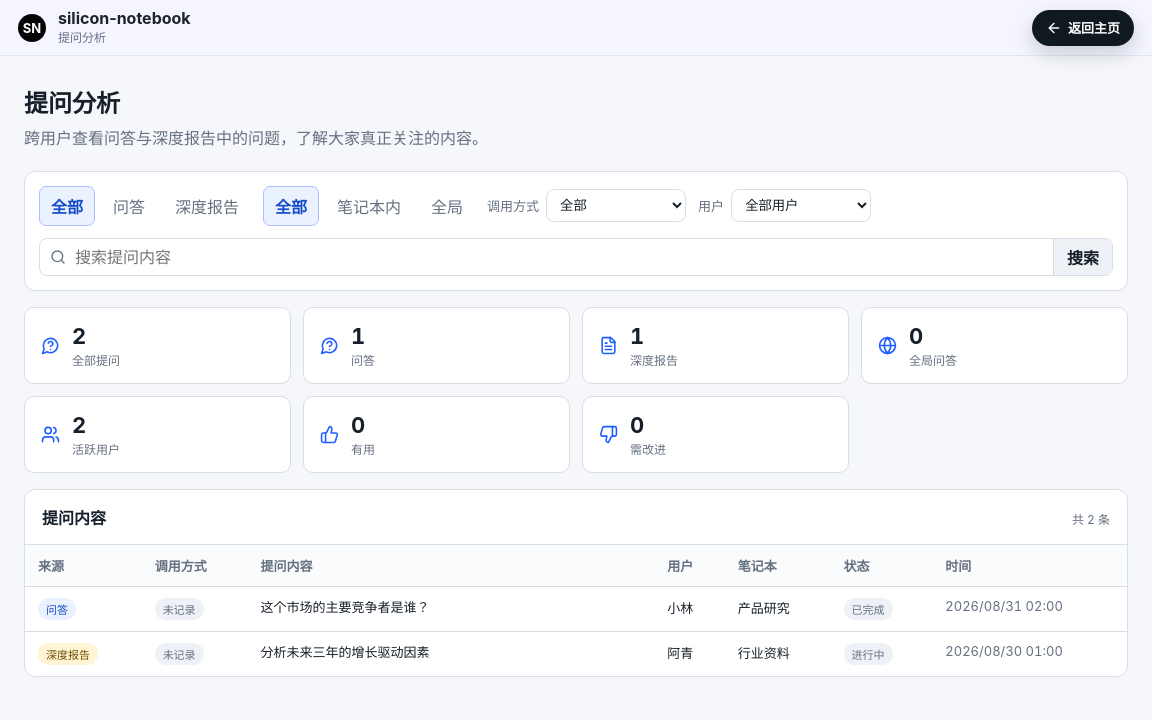
迟到的旧筛选响应不会覆盖当前提问结果
This screenshot has width=1152, height=720.
Expected: the text "这个市场的主要竞争者是谁？" is shown, [247,586,654,631]
Click the button "问答" at (129, 206), box [101,186,157,226]
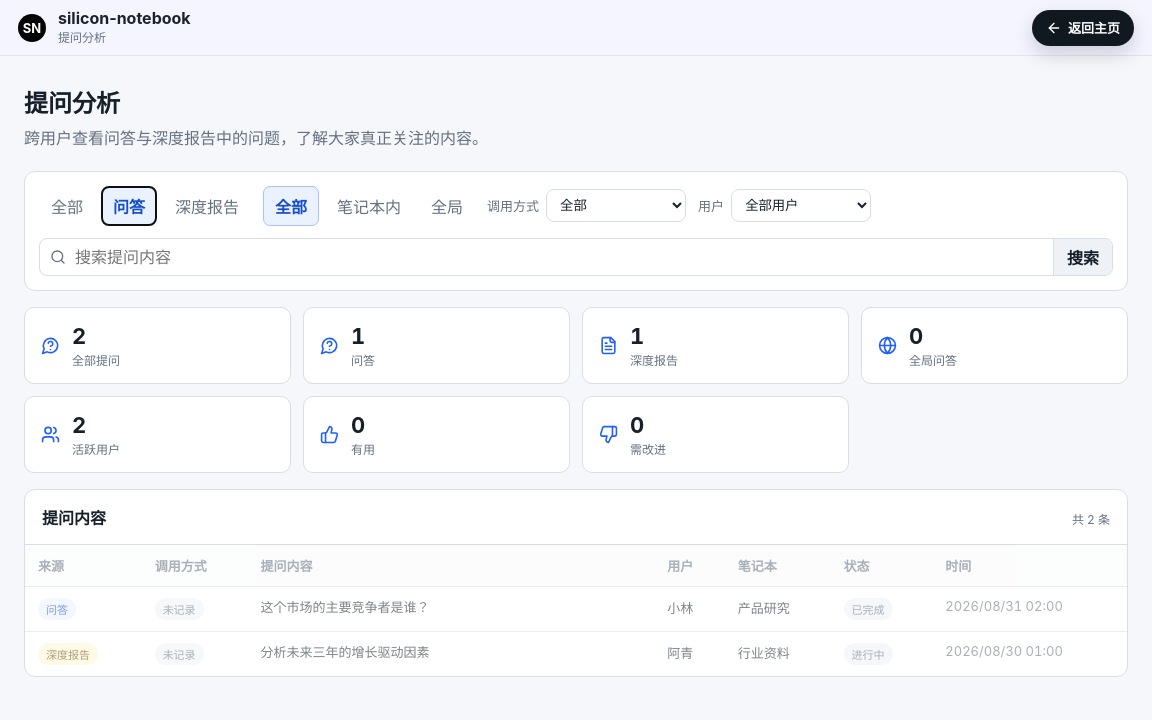
Click the button "深度报告" at (207, 206), box [163,186,251,226]
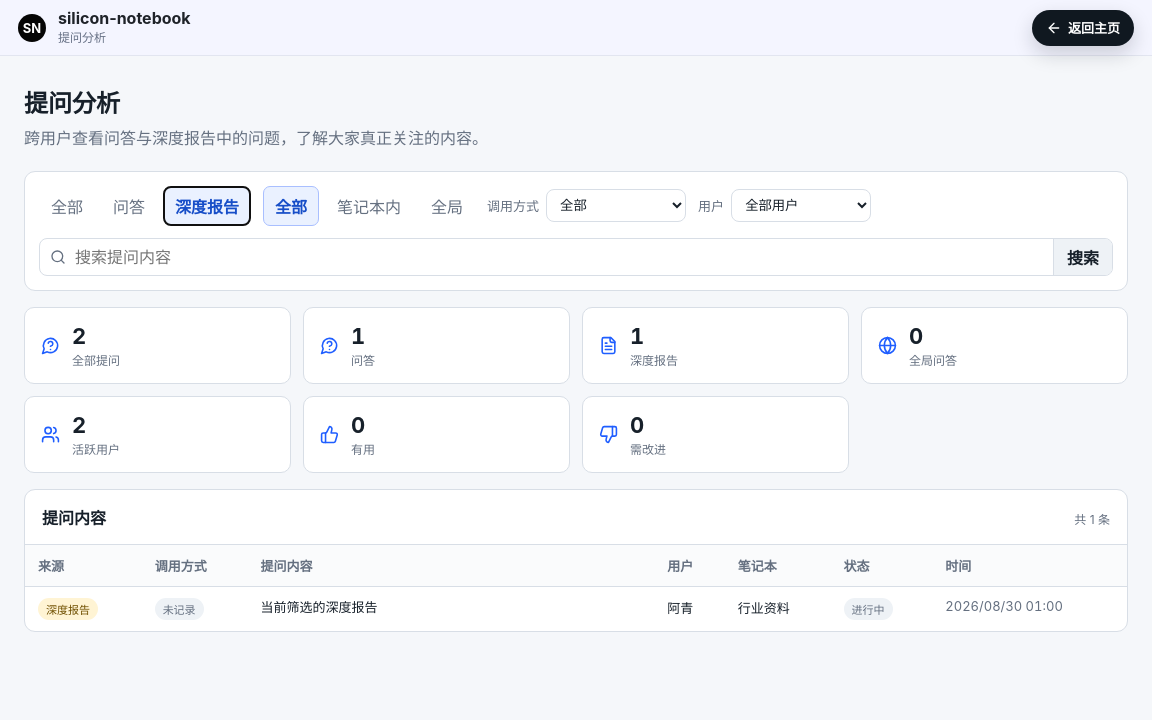
Expected: the text "当前筛选的深度报告" is shown, [247,586,654,631]
